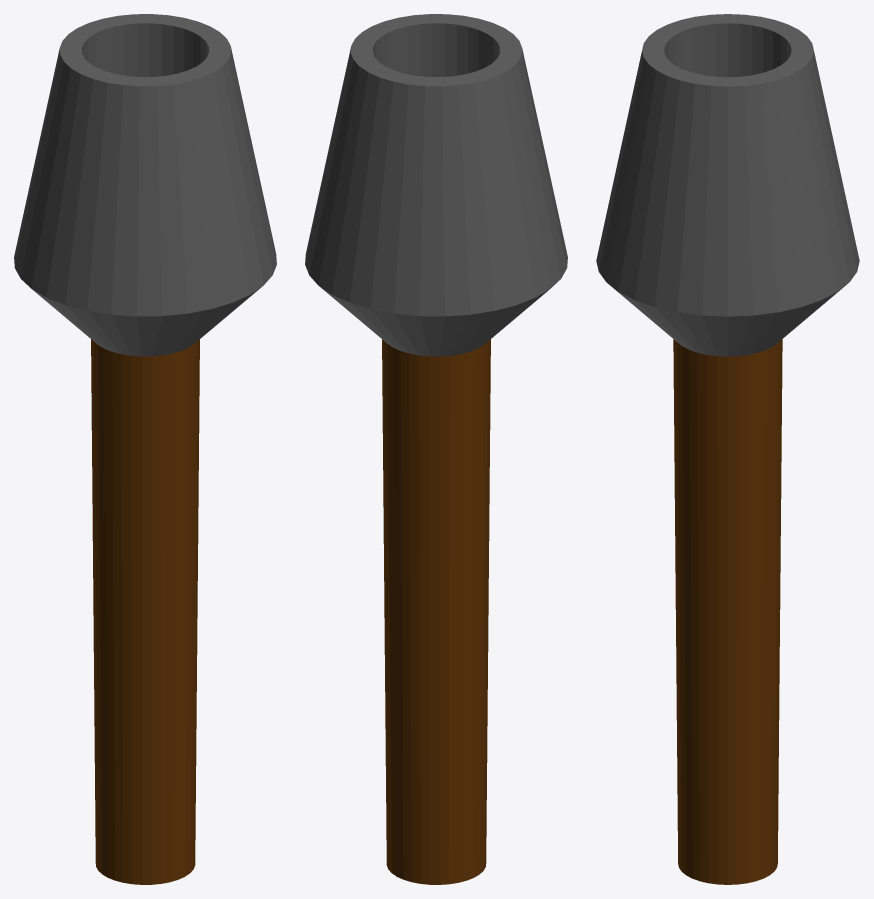
Rendered from Tiki torch.fbx.
3 renders of one model, left to right at view 1: azimuth 30°, elevation 25°; view 2: azimuth 150°, elevation 25°; view 3: azimuth 270°, elevation 25°, orthographic.
Visible parts, largest first — view 1: Cylinder; view 2: Cylinder; view 3: Cylinder.
Part boxes in pixels (x1,y1,x2,y2): Cylinder: [14, 14, 276, 884]; Cylinder: [305, 14, 567, 884]; Cylinder: [596, 14, 859, 884].
Bounding box in the file's own units: 22.77 × 77.56 × 22.77.
